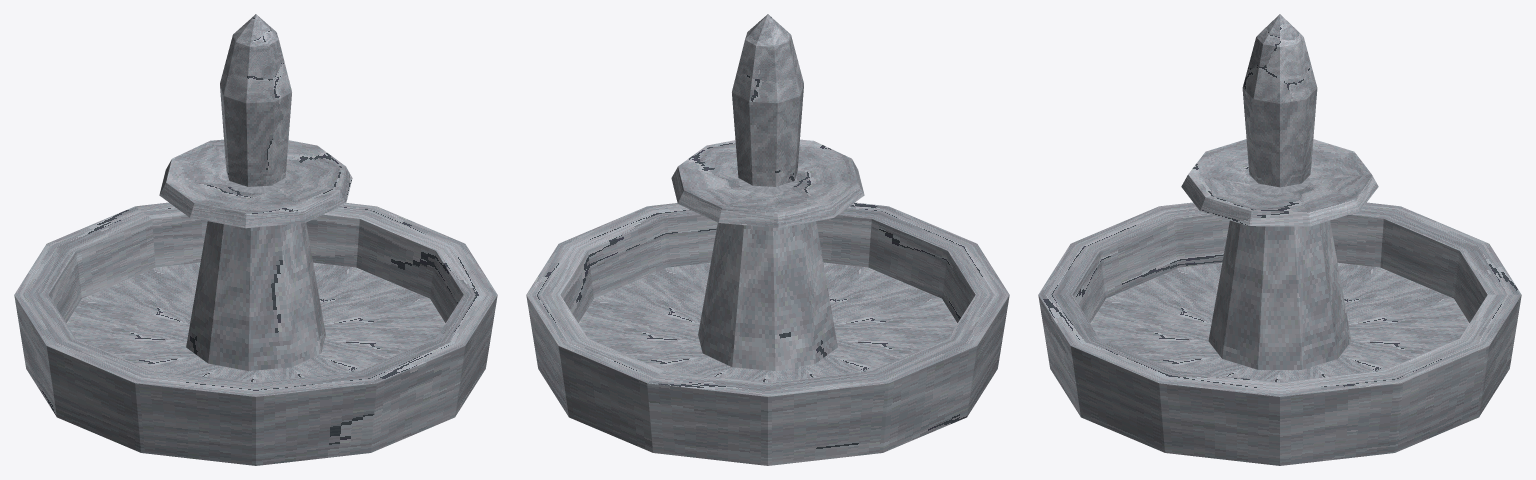
File: estatua_de_chafariz.glb
3 renders of one model, left to right at view 1: azimuth 30°, elevation 25°; view 2: azimuth 150°, elevation 25°; view 3: azimuth 270°, elevation 25°, orthographic.
Parts seen in each view (by area): view 1: estatua_de_chafariz; view 2: estatua_de_chafariz; view 3: estatua_de_chafariz.
Boxes of the visible parts, x1,y1,x2,y2 form: estatua_de_chafariz: (14, 14, 497, 465); estatua_de_chafariz: (526, 14, 1009, 465); estatua_de_chafariz: (1038, 14, 1521, 465).
Bounding box in the file's own units: 2.84 × 2.3 × 2.84.
1 material, 1 textured.
